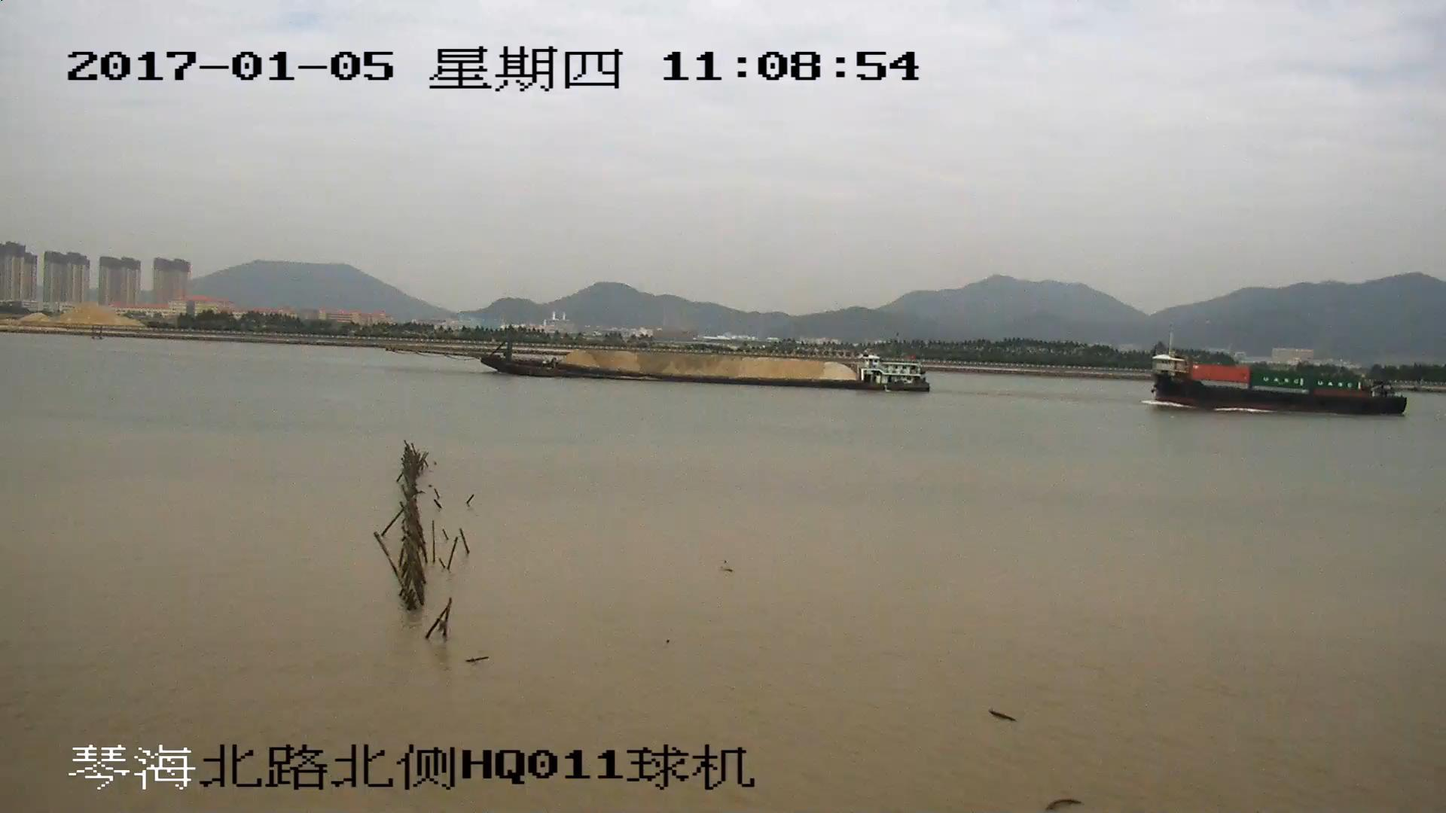container ship: (1150, 350, 1403, 415)
ore carrier: (396, 330, 926, 390)
